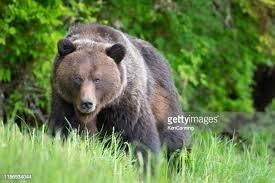bear: (48, 20, 192, 168)
